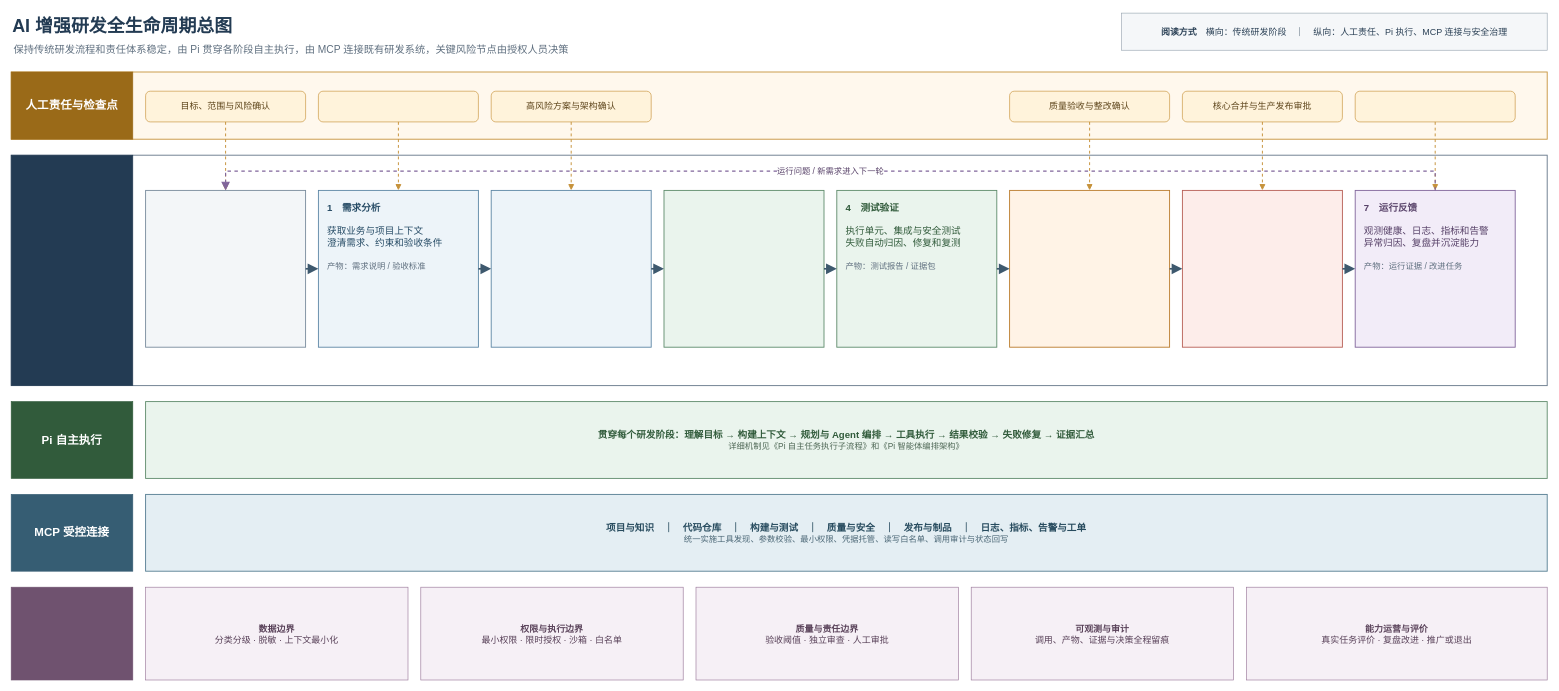
This 1559x691 diagram has some shape labels left out. The shapes that lost their labels are listed below. From the top down, each one's centre as x and y in pixels, then its label:
(x=398, y=106): 需求及验收标准确认
(x=1435, y=106): 重大异常、回滚与责任决策
(x=72, y=270): 传统研发生命周期
(x=225, y=268): 0 任务受理 明确目标、范围、优先级 完成风险分类和任务契约 产物：任务单 / 风险等级
(x=570, y=268): 2 方案设计 分析变更影响与技术风险 设计架构、接口与数据方案 产物：设计方案 / 实施计划
(x=743, y=268): 3 开发实施 任务拆分与专业 Agent 编排 在受控分支和沙箱中实施 产物：代码 / 配置 / 文档
(x=1089, y=268): 5 审查验收 开展独立 AI 审查和整改 核验需求、设计与质量证据 产物：审查结论 / 验收记录
(x=1262, y=268): 6 发布交付 生成 PR、变更及回滚材料 审批后触发现有发布流水线 产物：交付包 / 发布记录
(x=72, y=633): 贯穿式治理
